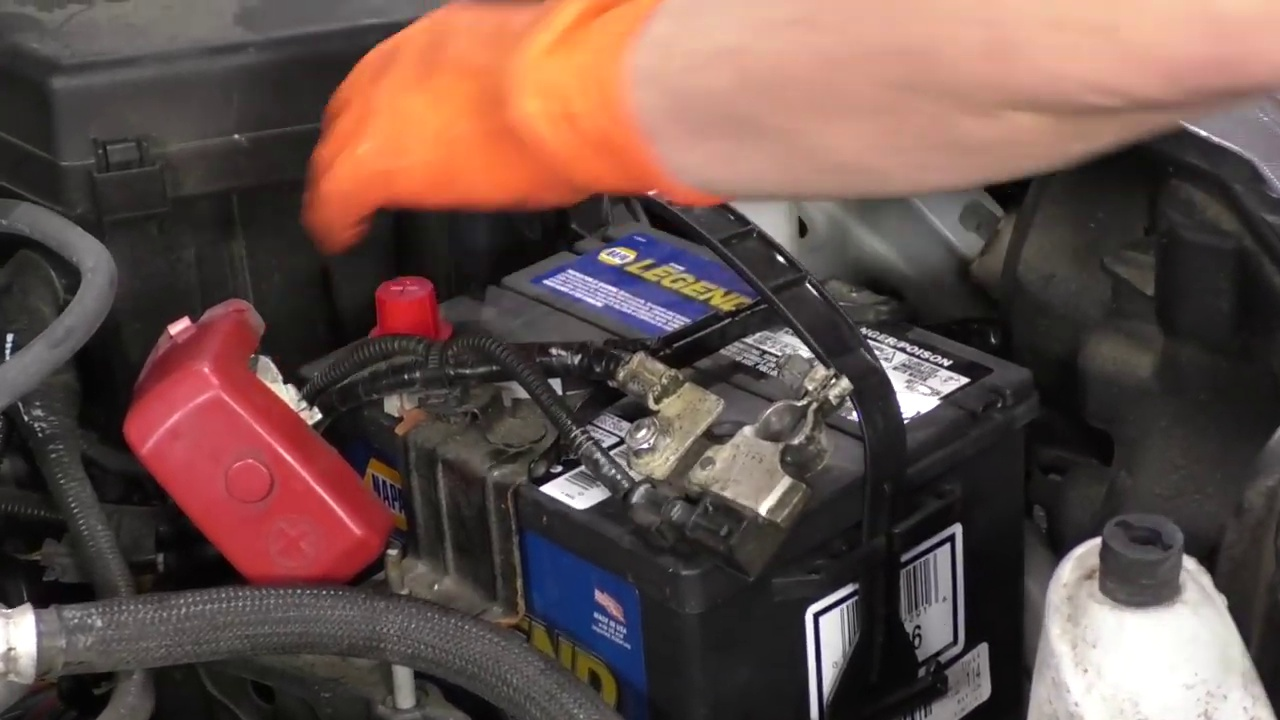battery: (294, 229, 1030, 556)
